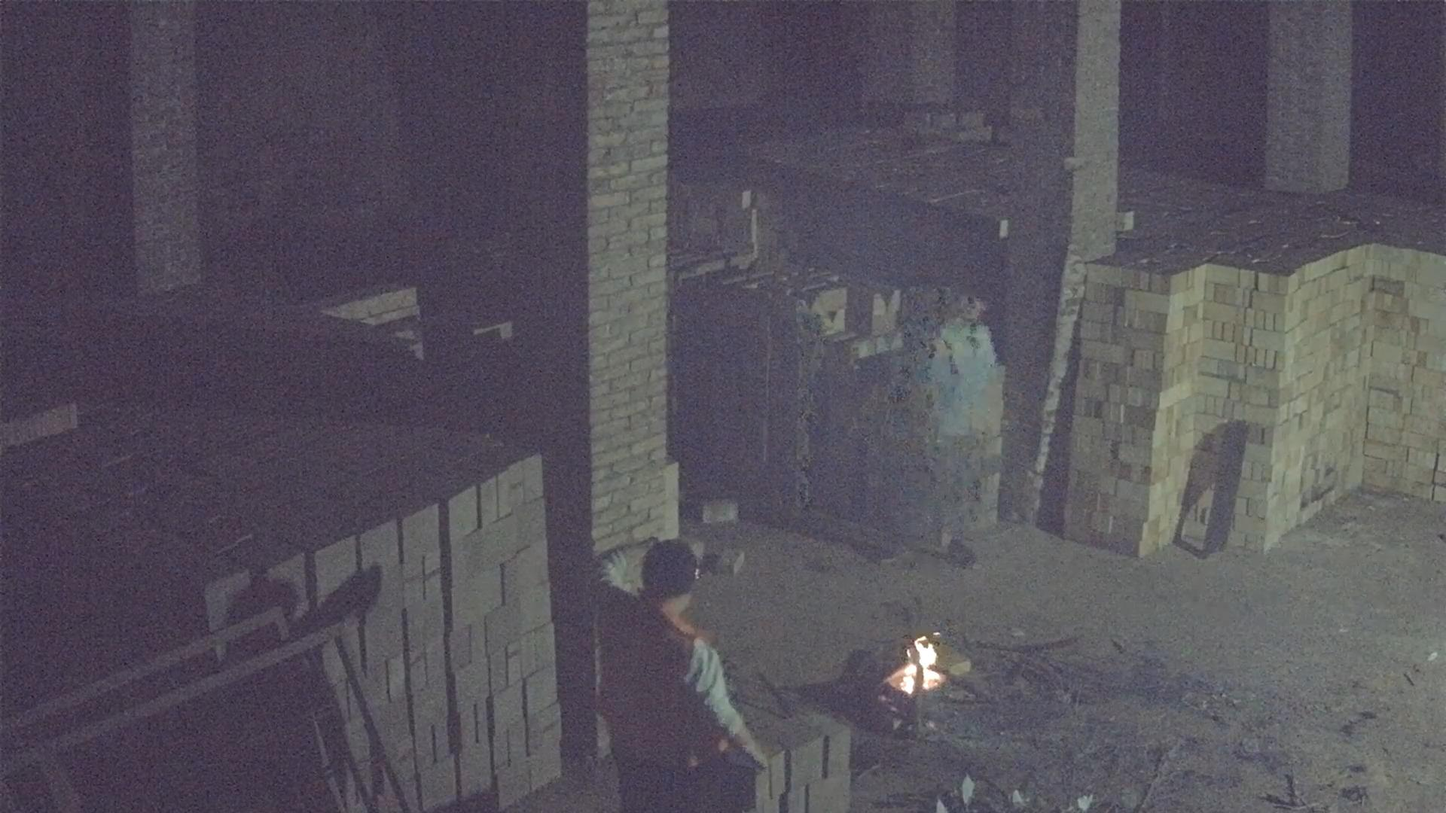fire: (897, 633, 944, 692)
